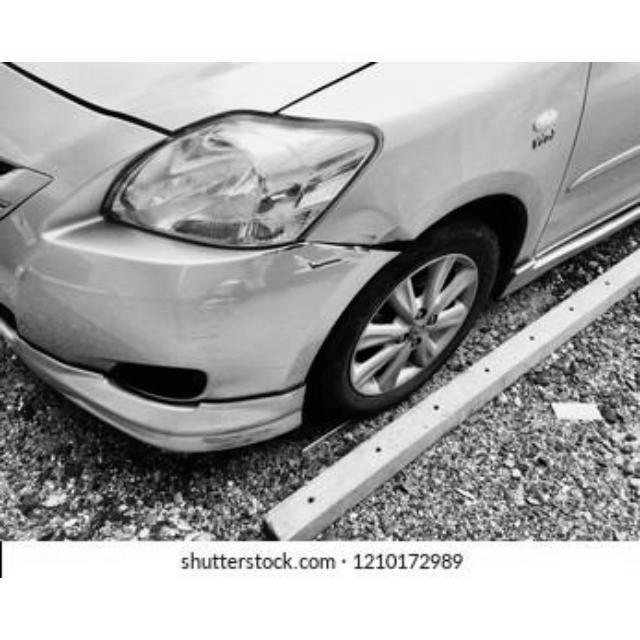fender-dent: (282, 202, 410, 288)
